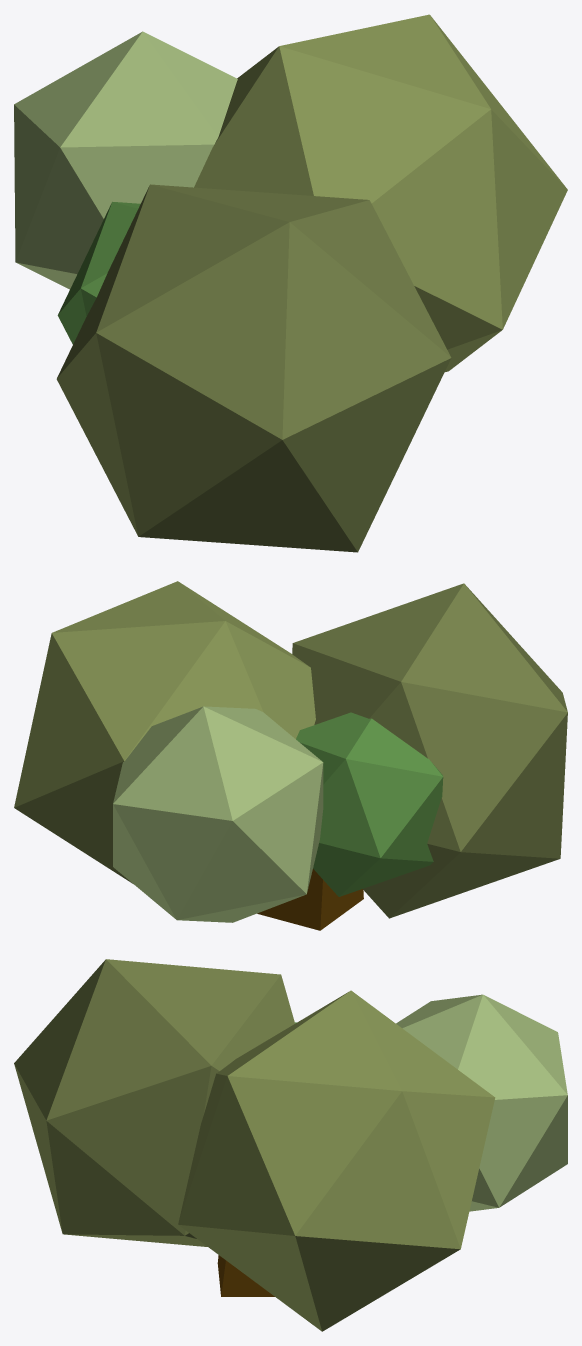
File: witheredbush1.fbx
3 renders of one model, top to bottom at view 1: azimuth 30°, elevation 25°; view 2: azimuth 150°, elevation 25°; view 3: azimuth 270°, elevation 25°, orthographic. The views are drawn at different scales.
Visible parts, largest first — view 1: Cube.004; view 2: Cube.004; view 3: Cube.004.
Part boxes in pixels (left/top/right/bottom): Cube.004: left=14, top=14, right=567, bottom=552; Cube.004: left=14, top=581, right=567, bottom=930; Cube.004: left=14, top=959, right=567, bottom=1331.
Bounding box in the file's own units: 124 × 82.11 × 133.
